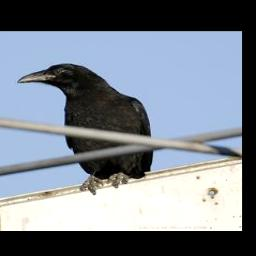Crow: (15, 62, 155, 194)
